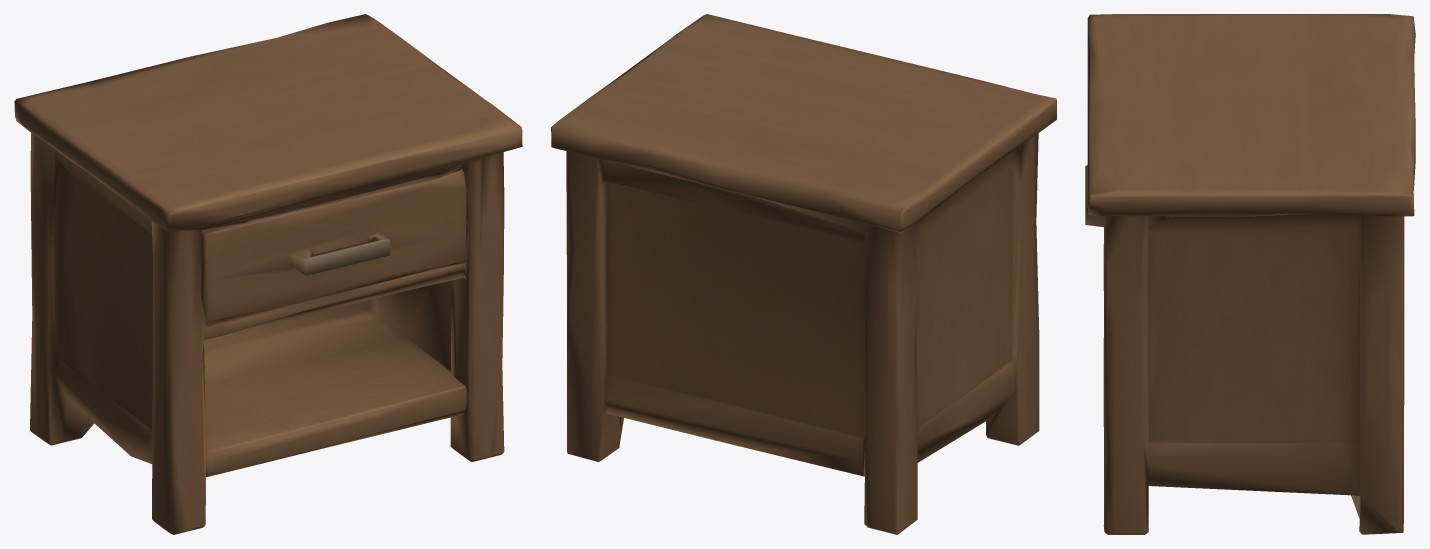
Rendered from ENV_BEDSIDE_v001_RAW.glb.
3 views of the same model, side by side, from view 1: azimuth 30°, elevation 25°; view 2: azimuth 150°, elevation 25°; view 3: azimuth 270°, elevation 25° (orthographic). The views are drawn at different scales.
Visible parts, largest first — view 1: tripo_node_cc318957-fabe-4071-8a8f-bd13da4b1ca1; view 2: tripo_node_cc318957-fabe-4071-8a8f-bd13da4b1ca1; view 3: tripo_node_cc318957-fabe-4071-8a8f-bd13da4b1ca1.
Part boxes in pixels (x1,y1,x2,y2): tripo_node_cc318957-fabe-4071-8a8f-bd13da4b1ca1: (14,14,522,534); tripo_node_cc318957-fabe-4071-8a8f-bd13da4b1ca1: (551,14,1056,534); tripo_node_cc318957-fabe-4071-8a8f-bd13da4b1ca1: (1085,14,1415,534).
Bounding box in the file's own units: 0.979 × 0.8764 × 0.7532.
1 material, 1 textured.
